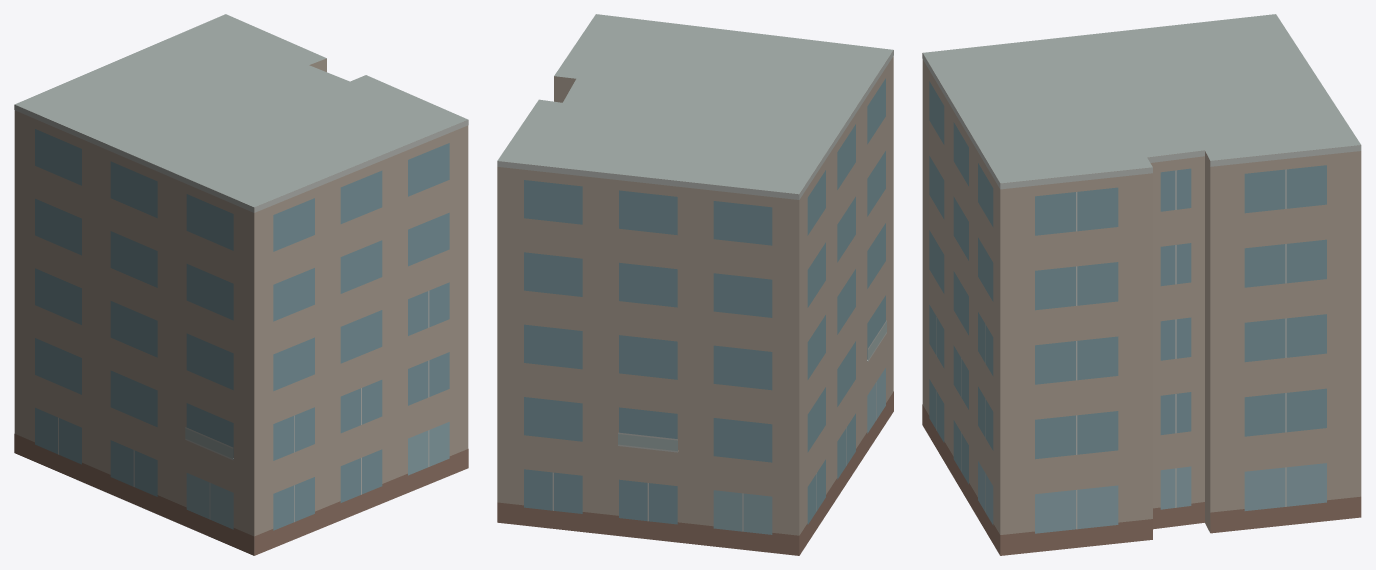
The model's file is survey-upis-33012283.glb.
The picture shows the model from 3 angles, left to right: view 1: azimuth 30°, elevation 25°; view 2: azimuth 150°, elevation 25°; view 3: azimuth 270°, elevation 25°; orthographic projection. The views are drawn at different scales.
Parts seen in each view (by area): view 1: survey-upis-33012283.tmp; view 2: survey-upis-33012283.tmp; view 3: survey-upis-33012283.tmp.
Part boxes in pixels (x1,y1,x2,y2): survey-upis-33012283.tmp: [14, 14, 468, 555]; survey-upis-33012283.tmp: [497, 14, 893, 555]; survey-upis-33012283.tmp: [922, 14, 1361, 555].
Size of the model in its own units: 14.89 by 15.25 by 16.29.
